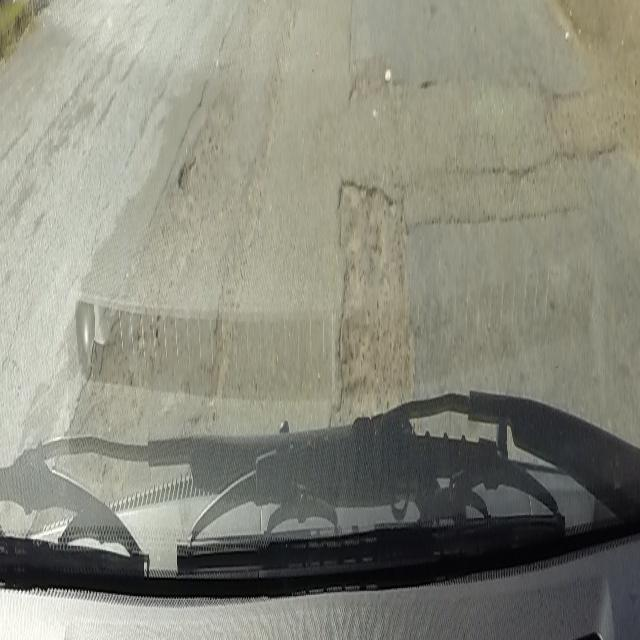pothole: (329, 174, 416, 424), (172, 152, 198, 194)
